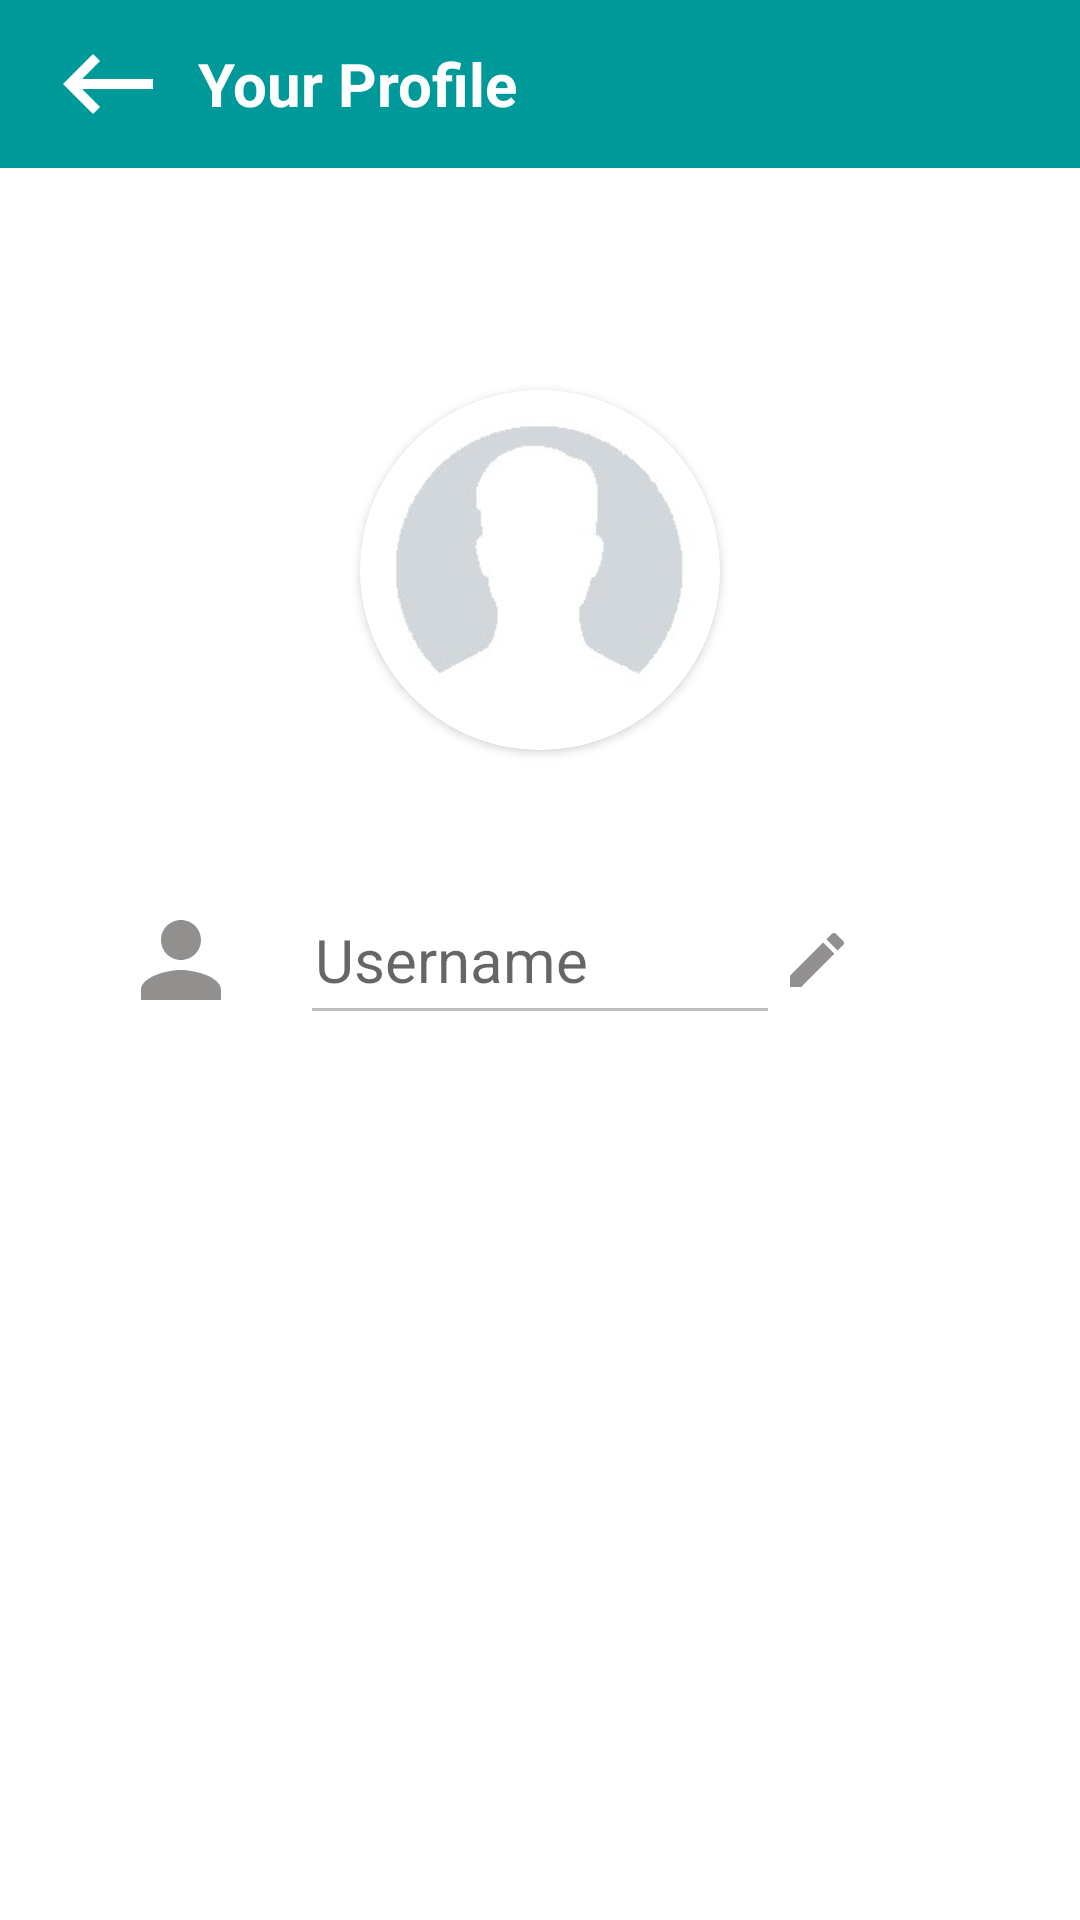

Icons on this 1080px x 1920px Android screen, each with the point to tap as [x,y]:
edit: [817,960]
keyboard backspace: [108,84]
person: [540,588], [181,960]
